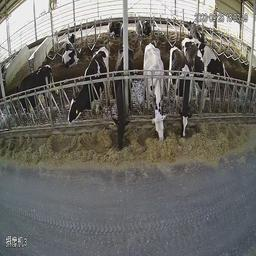cow: (68, 52, 112, 122), (165, 43, 191, 140), (113, 42, 135, 151), (18, 61, 55, 123), (143, 42, 164, 142), (182, 35, 205, 99), (202, 40, 224, 90), (59, 31, 78, 68), (107, 18, 123, 38), (137, 16, 153, 35)
